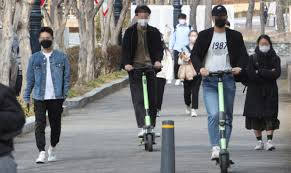nonhelmet: (191, 4, 248, 173), (120, 4, 164, 150)
